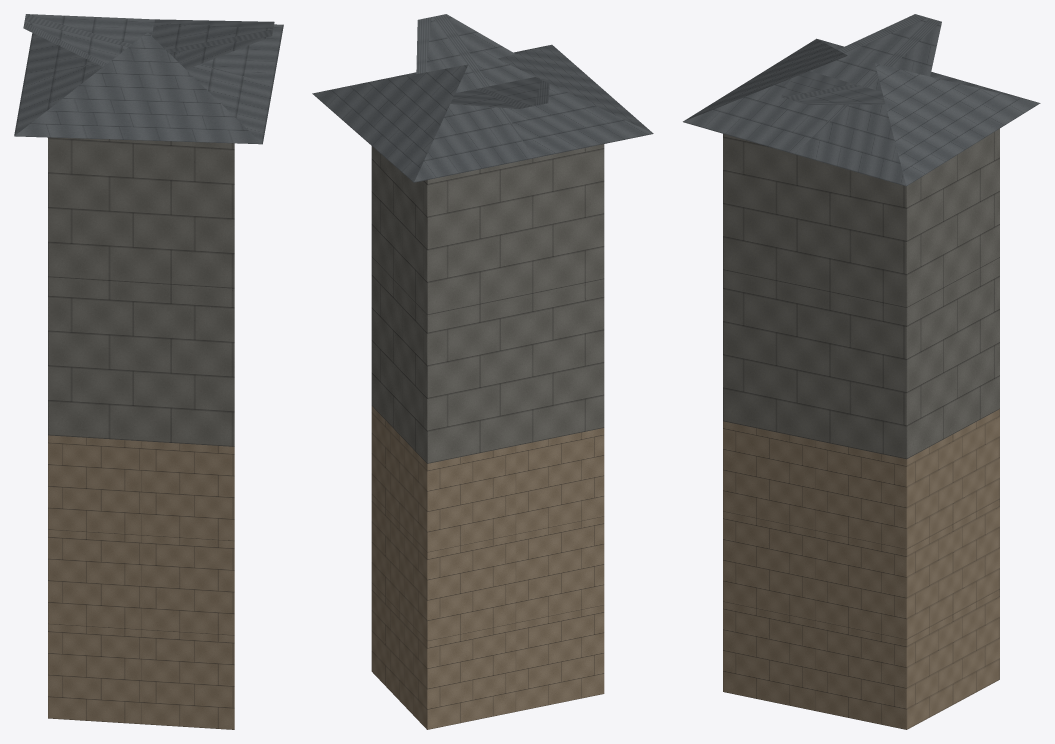
The model's file is bld_c-23_10_545.gltf.
3 renders of one model, left to right at view 1: azimuth 30°, elevation 25°; view 2: azimuth 150°, elevation 25°; view 3: azimuth 270°, elevation 25°, orthographic. The views are drawn at different scales.
Visible parts, largest first — view 1: bld_c-23_10_545; view 2: bld_c-23_10_545; view 3: bld_c-23_10_545.
Part boxes in pixels (bbox=[...]): bld_c-23_10_545: bbox=[14, 14, 283, 729]; bld_c-23_10_545: bbox=[312, 14, 653, 729]; bld_c-23_10_545: bbox=[683, 14, 1040, 729].
Size of the model in its own units: 5.97 by 11.8 by 6.12.
3 materials, 3 textured.
